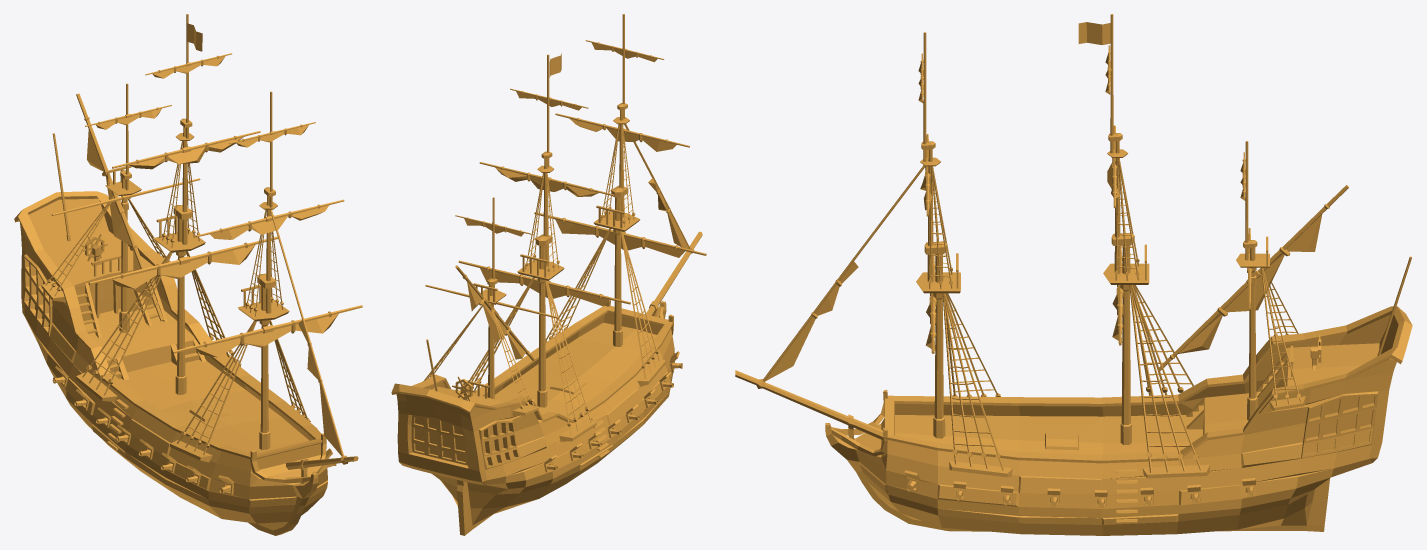
Rendered from ship-colonial.fbx.
The picture shows the model from 3 angles, left to right: view 1: azimuth 30°, elevation 25°; view 2: azimuth 150°, elevation 25°; view 3: azimuth 270°, elevation 25°; orthographic projection. The views are drawn at different scales.
Parts seen in each view (by area): view 1: ship-colonial; view 2: ship-colonial; view 3: ship-colonial.
Part boxes in pixels (left/top/right/bottom): ship-colonial: left=14, top=14, right=362, bottom=535; ship-colonial: left=391, top=14, right=706, bottom=535; ship-colonial: left=735, top=14, right=1412, bottom=535.
Bounding box in the file's own units: 12.22 × 28.51 × 33.91.
